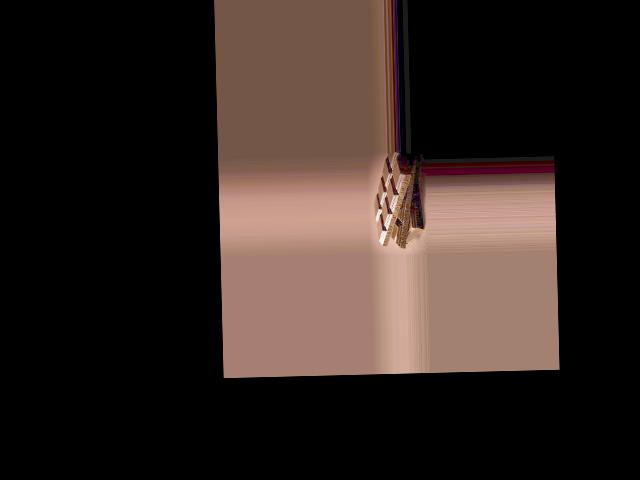chocolate: (373, 154, 418, 248)
